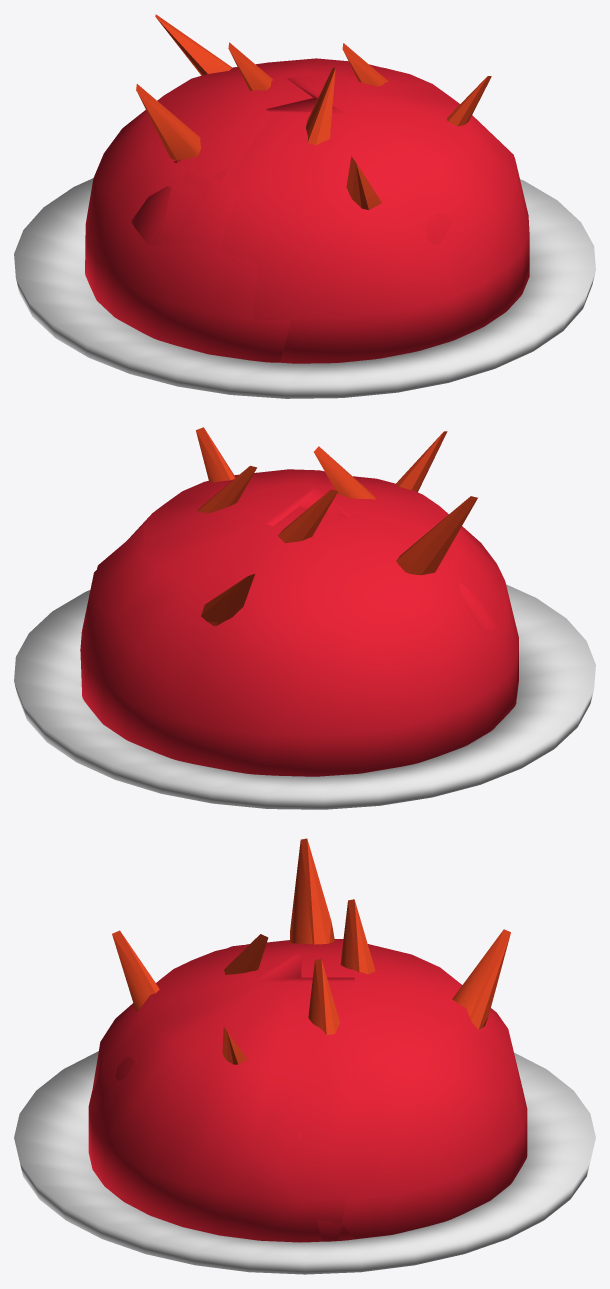
The model's file is carrotCake.fbx.
3 renders of one model, top to bottom at view 1: azimuth 30°, elevation 25°; view 2: azimuth 150°, elevation 25°; view 3: azimuth 270°, elevation 25°, orthographic.
Visible parts, largest first — view 1: carrot cake; view 2: carrot cake; view 3: carrot cake.
Part boxes in pixels (x1,y1,x2,y2): carrot cake: [14, 14, 595, 398]; carrot cake: [14, 427, 595, 809]; carrot cake: [14, 838, 595, 1274].
Bounding box in the file's own units: 178 × 88.06 × 178.
